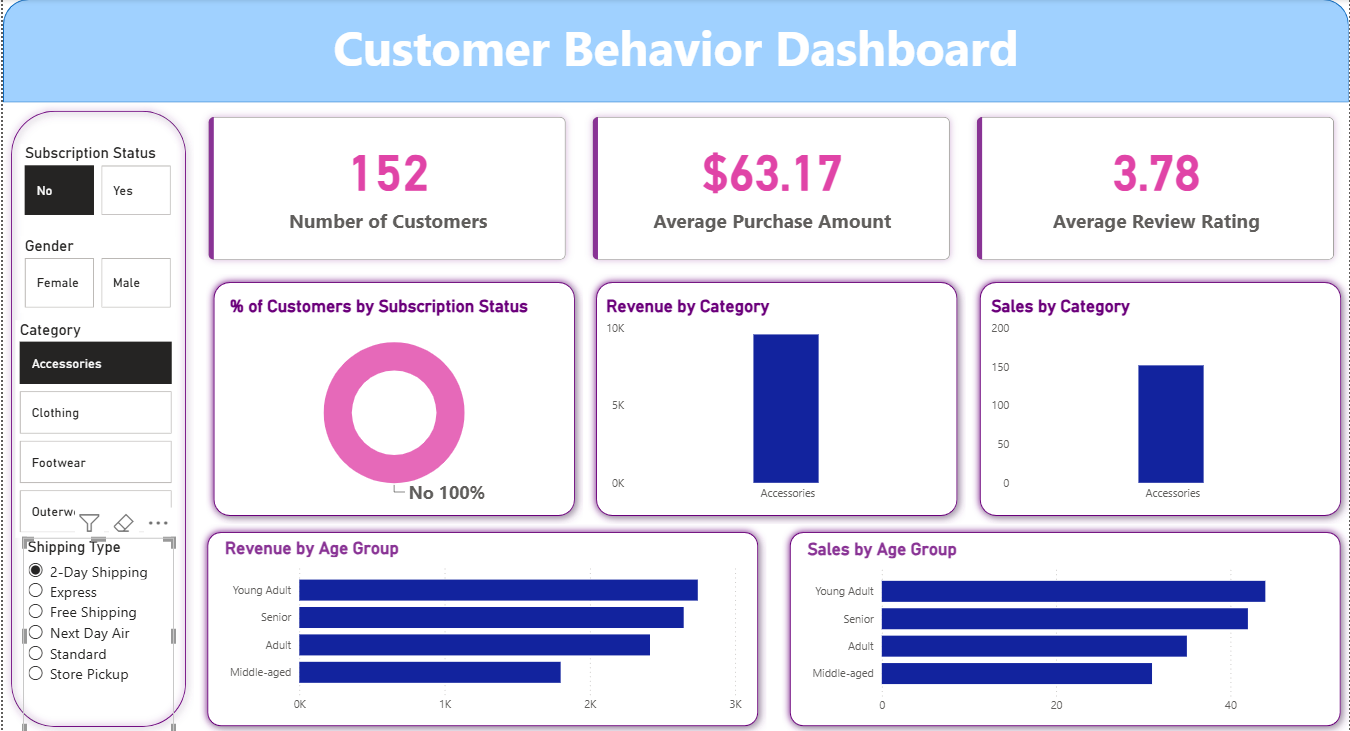

This screenshot's page, from the dashboard's own definition file:
{"tool":"powerbi","page":{"name":"Page 1","canvas":[1500,820],"ordinal":0},"visuals":[{"type":"cardVisual","fields":{"Data":["public customer.Number of Customers","public customer.Average Purchase Amount","public customer.Average Review Rating"]},"box":[212.9,115.3,1286.5,191.6],"z":2000},{"type":"shape","box":[218.3,585.6,631.7,234.2],"z":2500,"group":"g1"},{"type":"shape","box":[0,0,1499.4,115.3],"z":3000},{"type":"textbox","box":[0,12.4,1499.4,102.9],"z":4000},{"type":"shape","box":[225.4,307,420.5,278.6],"z":5000},{"type":"donutChart","title":"% of Customers by Subscription Status","fields":{"Category":["public customer.subscription_status"],"Y":["CountNonNull(public customer.customer_id)"]},"box":[248.4,331.8,376.2,237.8],"z":6000},{"type":"shape","box":[1078.9,307,420.5,278.6],"z":7000},{"type":"shape","box":[652.1,307,420.5,278.6],"z":8000},{"type":"clusteredColumnChart","title":"Revenue by Category","fields":{"Y":["Sum(public customer.purchase_amount)"],"Category":["public customer.category"]},"box":[667.2,331.8,385.1,237.8],"z":9000},{"type":"clusteredColumnChart","title":"Sales by Category","fields":{"Y":["CountNonNull(public customer.customer_id)"],"Category":["public customer.category"]},"box":[1096.6,331.8,385.1,237.8],"z":10000},{"type":"shape","box":[0,115.3,212.9,704.5],"z":11000},{"type":"advancedSlicerVisual","fields":{"Values":["public customer.subscription_status"]},"box":[19.5,161.5,173.9,85.2],"z":12000},{"type":"advancedSlicerVisual","fields":{"Values":["public customer.gender"]},"box":[19.5,264.4,173.9,85.2],"z":13000},{"type":"advancedSlicerVisual","fields":{"Values":["public customer.category"]},"box":[13.9,357.9,179.7,242.3],"z":14000},{"type":"listSlicer","fields":{"Values":["public customer.shipping_type"]},"box":[22.3,600.2,168.5,220],"z":15000},{"type":"shape","box":[867.7,585.6,631.7,234.2],"z":16000},{"type":"clusteredBarChart","title":"Sales by Age Group","fields":{"Y":["CountNonNull(public customer.customer_id)"],"Category":["public customer.age_group"]},"box":[890.8,601.5,585.6,204.1],"z":17000},{"type":"clusteredBarChart","title":"Revenue by Age Group","fields":{"Y":["Sum(public customer.purchase_amount)"],"Category":["public customer.age_group"]},"box":[241.4,601.6,585.6,204.1],"z":17500,"group":"g1"},{"type":"group","id":"g1","title":"Group 1","box":[218.3,585.6,631.7,234.2],"z":17501}]}

Visuals, with their boxes in screenshot pixels (x1, y1, x2, y2), scaled from the page's 1500x820 canvas onto the 1350x731 screenshot:
cardVisual - public customer.Number of Customers x public customer.Average Purchase Amount: <box>192,103,1349,274</box>
shape: <box>196,522,765,730</box>
shape: <box>0,0,1349,103</box>
textbox: <box>0,11,1349,103</box>
shape: <box>203,274,581,522</box>
"% of Customers by Subscription Status" donutChart: <box>224,296,562,508</box>
shape: <box>971,274,1349,522</box>
shape: <box>587,274,965,522</box>
"Revenue by Category" clusteredColumnChart: <box>600,296,947,508</box>
"Sales by Category" clusteredColumnChart: <box>987,296,1334,508</box>
shape: <box>0,103,192,730</box>
advancedSlicerVisual - public customer.subscription_status: <box>18,144,174,220</box>
advancedSlicerVisual - public customer.gender: <box>18,236,174,312</box>
advancedSlicerVisual - public customer.category: <box>13,319,174,535</box>
listSlicer - public customer.shipping_type: <box>20,535,172,730</box>
shape: <box>781,522,1349,730</box>
"Sales by Age Group" clusteredBarChart: <box>802,536,1329,718</box>
"Revenue by Age Group" clusteredBarChart: <box>217,536,744,718</box>
"Group 1" group: <box>196,522,765,730</box>
